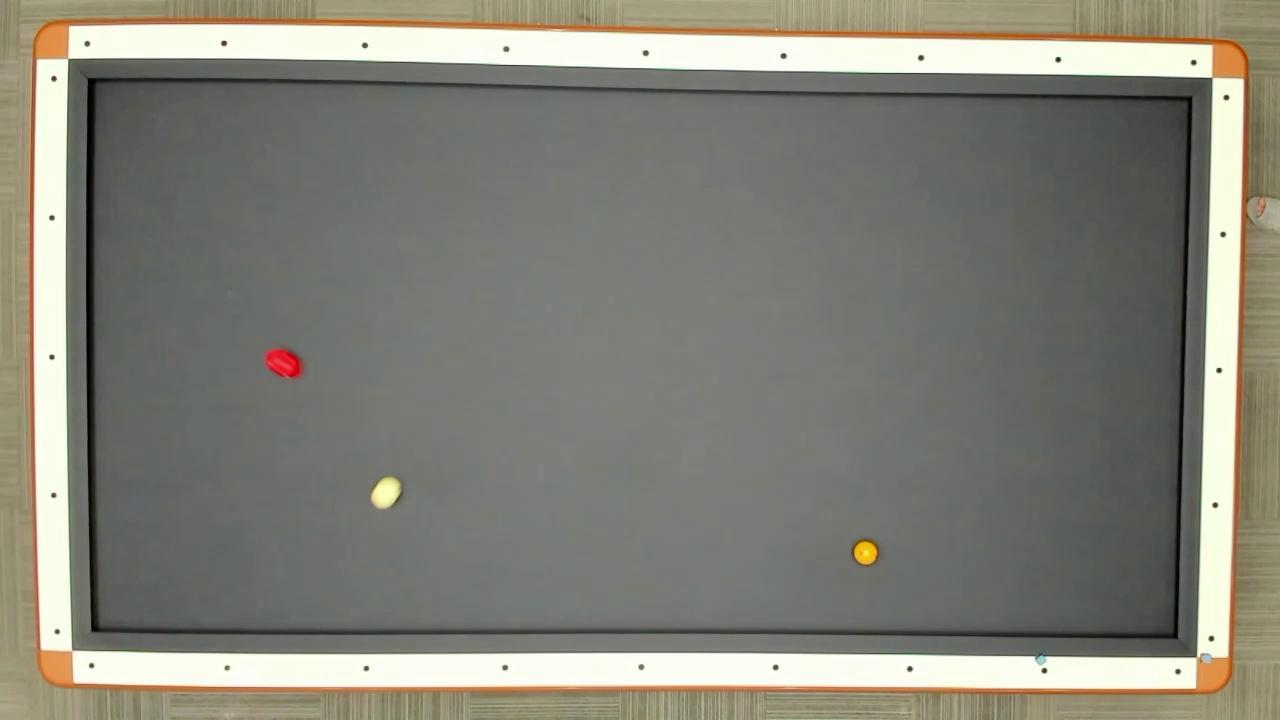Red: (262, 346, 304, 382)
White: (367, 475, 405, 512)
Yellow: (850, 538, 880, 568)
